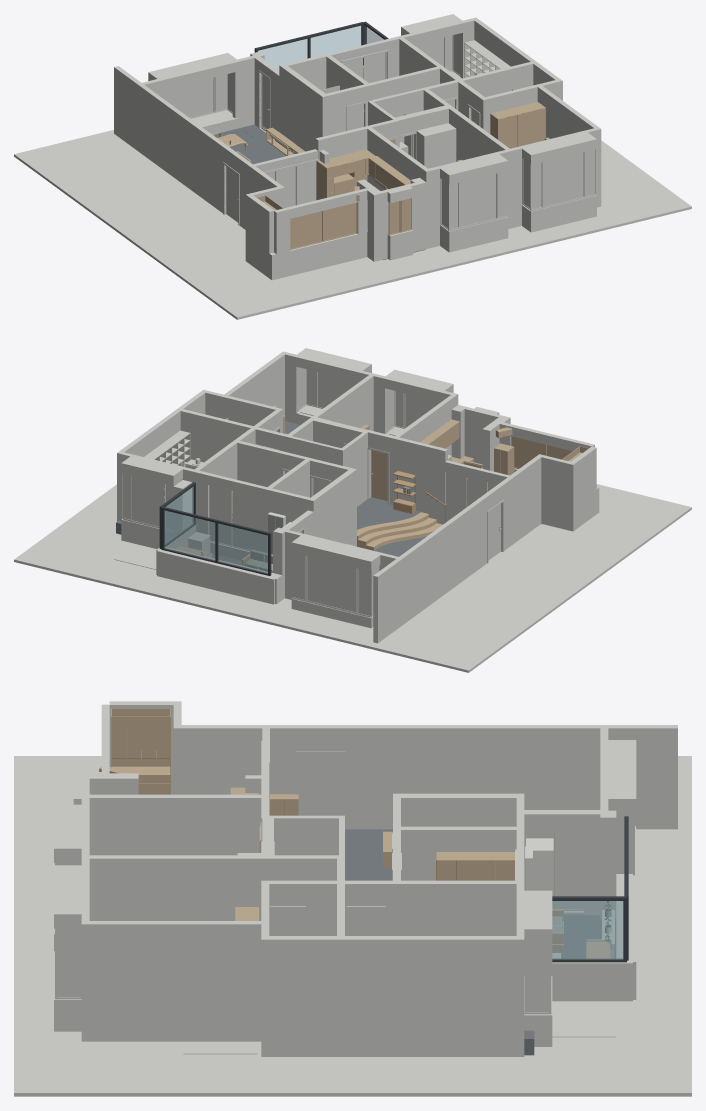
The model's file is interaction_proxy.glb.
3 views of the same model, one above another, from view 1: azimuth 30°, elevation 25°; view 2: azimuth 150°, elevation 25°; view 3: azimuth 270°, elevation 25° (orthographic). The views are drawn at different scales.
Parts seen in each view (by area): view 1: SITE_GROUND.001, VIEW_WALL_W_wall_md_0006.001, VIEW_WALL_LIVING_FIX_GUEST_BATH_FULL_WALL.001, VIEW_WALL_W_wall_md_0042.001, VIEW_WALL_W_wall_md_0035.001, V4_W-MB-S_FRONT_GLASS_1.001, VIEW_WALL_W_wall_md_0034.001, V4_W-SMB-S_FRONT_GLASS_1.001, VIEW_WALL_W_wall_md_0007.001, VIEW_WALL_W_wall_md_0021.001, VIEW_WALL_W_wall_md_0030.001, VIEW_WALL_W_wall_md_0060.001 (+45 smaller); view 2: SITE_GROUND.001, VIEW_WALL_W_wall_md_0006.001, VIEW_WALL_W_wall_md_0062.001, VIEW_WALL_W_wall_md_0005.001, VIEW_WALL_W_wall_md_0044.001, VIEW_WALL_W_wall_md_0055.001, VIEW_WALL_W_wall_md_0043.001, VIEW_WALL_LIVING_FIX_GUEST_BATH_FULL_WALL.001, LIVING_FIX_BAY_FRONT_GLASS_1.001, VIEW_WALL_W_wall_md_0049.001, NORTH_BALCONY_GLASS_NORTH_B.001, VIEW_WALL_W_wall_md_0007.001 (+53 smaller); view 3: SITE_GROUND.001, VIEW_WALL_W_wall_md_0030.001, VIEW_WALL_W_wall_md_0033.001, VIEW_WALL_W_wall_md_0006.001, VIEW_WALL_W_wall_md_0021.001, VIEW_WALL_W_wall_md_0015.001, VIEW_WALL_W_wall_md_0032.001, VIEW_WALL_W_wall_md_0005.001, VIEW_WALL_W_wall_md_0025.001, VIEW_WALL_W_wall_md_0007.001, NORTH_BALCONY_GLASS_EAST.001, VIEW_WALL_W_wall_md_0019.001 (+39 smaller).
Boxes of the visible parts, x1,y1,x2,y2 form: SITE_GROUND.001: (14,128,691,319); VIEW_WALL_W_wall_md_0006.001: (139,85,227,212); VIEW_WALL_LIVING_FIX_GUEST_BATH_FULL_WALL.001: (282,66,325,153); VIEW_WALL_W_wall_md_0042.001: (276,232,367,278); VIEW_WALL_W_wall_md_0035.001: (533,139,594,231); V4_W-MB-S_FRONT_GLASS_1.001: (543,152,583,206); VIEW_WALL_W_wall_md_0034.001: (451,161,505,251); V4_W-SMB-S_FRONT_GLASS_1.001: (460,174,496,226); VIEW_WALL_W_wall_md_0007.001: (114,66,141,150); VIEW_WALL_W_wall_md_0021.001: (449,107,509,161); VIEW_WALL_W_wall_md_0030.001: (537,86,598,138); VIEW_WALL_W_wall_md_0060.001: (232,55,254,128); SITE_GROUND.001: (14,484,691,672); VIEW_WALL_W_wall_md_0006.001: (399,495,487,624); VIEW_WALL_W_wall_md_0062.001: (157,547,277,604); VIEW_WALL_W_wall_md_0005.001: (499,456,541,550); VIEW_WALL_W_wall_md_0044.001: (396,437,441,523); VIEW_WALL_W_wall_md_0055.001: (196,470,266,560); VIEW_WALL_W_wall_md_0043.001: (541,455,575,531); VIEW_WALL_LIVING_FIX_GUEST_BATH_FULL_WALL.001: (311,470,354,545); LIVING_FIX_BAY_FRONT_GLASS_1.001: (307,556,356,612); VIEW_WALL_W_wall_md_0049.001: (180,409,253,462); NORTH_BALCONY_GLASS_NORTH_B.001: (164,510,215,560); VIEW_WALL_W_wall_md_0007.001: (373,559,400,643); SITE_GROUND.001: (14,756,691,1096); VIEW_WALL_W_wall_md_0030.001: (89,921,261,1041); VIEW_WALL_W_wall_md_0033.001: (345,936,516,1056); VIEW_WALL_W_wall_md_0006.001: (345,725,600,829); VIEW_WALL_W_wall_md_0021.001: (89,855,261,920); VIEW_WALL_W_wall_md_0015.001: (89,794,261,855); VIEW_WALL_W_wall_md_0032.001: (261,936,336,1056); VIEW_WALL_W_wall_md_0005.001: (181,725,296,794); VIEW_WALL_W_wall_md_0025.001: (401,880,516,935); VIEW_WALL_W_wall_md_0007.001: (608,725,677,829); NORTH_BALCONY_GLASS_EAST.001: (552,901,623,959); VIEW_WALL_W_wall_md_0019.001: (401,826,516,880).
Bounding box in the file's own units: 20 × 3.37 × 17.
